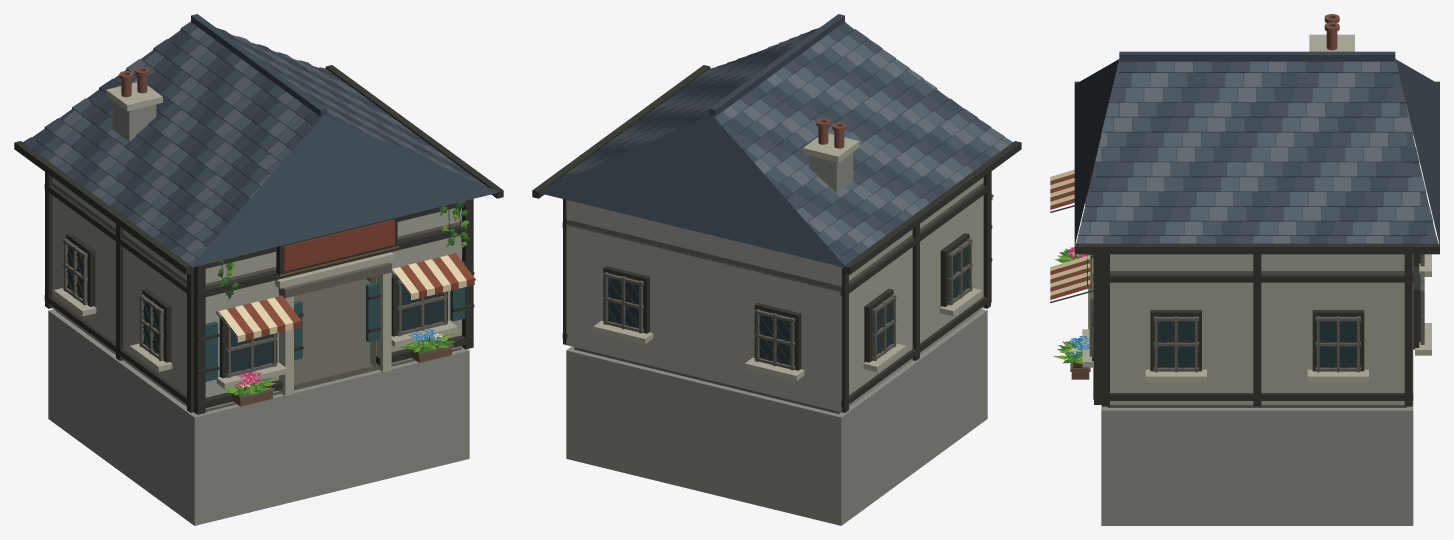
File: village_bakery.glb
3 views of the same model, side by side, from view 1: azimuth 30°, elevation 25°; view 2: azimuth 150°, elevation 25°; view 3: azimuth 270°, elevation 25° (orthographic). The views are drawn at different scales.
Parts seen in each view (by area): view 1: village_bakery; view 2: village_bakery; view 3: village_bakery.
Boxes of the visible parts, x1,y1,x2,y2 form: village_bakery: [14, 14, 503, 525]; village_bakery: [532, 14, 1021, 525]; village_bakery: [1050, 14, 1439, 525].
Bounding box in the file's own units: 8.78 × 9.94 × 8.75.
